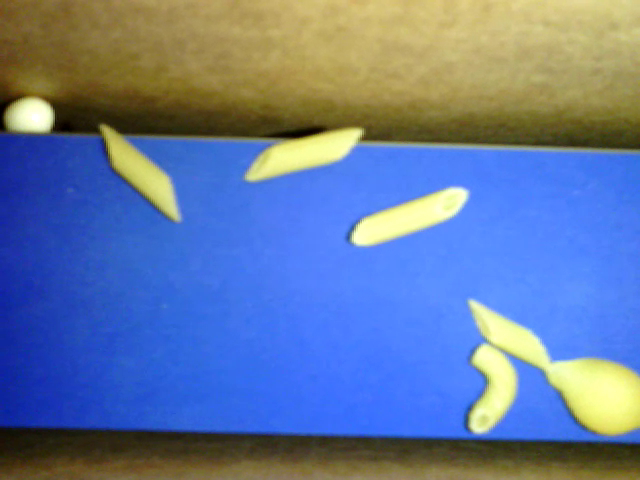elbow: (467, 343, 517, 433)
penne: (99, 124, 182, 222), (352, 186, 469, 247), (244, 124, 364, 181), (469, 300, 552, 371)
shell: (543, 357, 639, 436)
